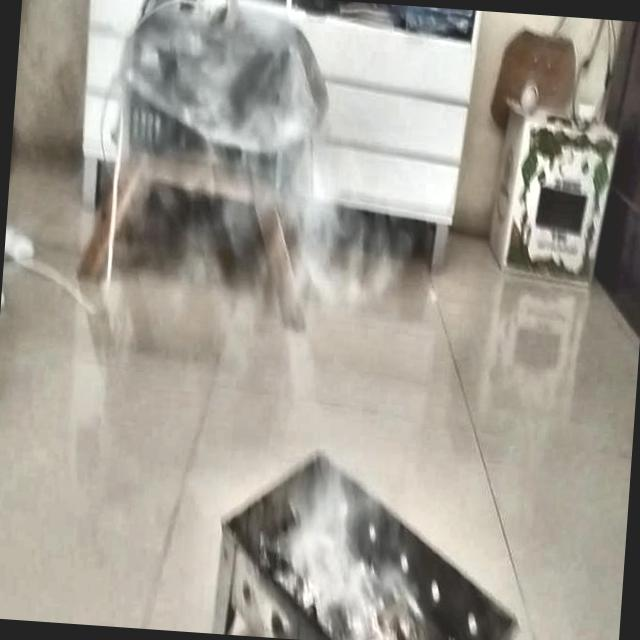smoke: (176, 19, 404, 614)
